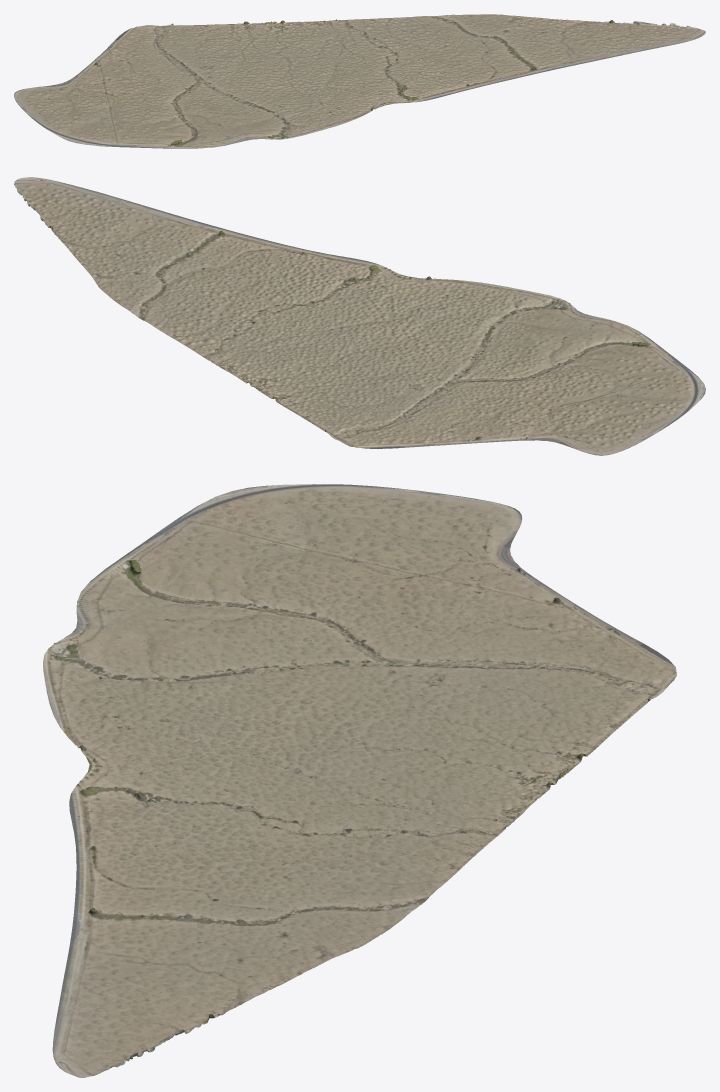
3 renders of one model, top to bottom at view 1: azimuth 30°, elevation 25°; view 2: azimuth 150°, elevation 25°; view 3: azimuth 270°, elevation 25°, orthographic. The views are drawn at different scales.
Visible parts, largest first — view 1: BHR_002_M3_2_MadinatHamadDetail; view 2: BHR_002_M3_2_MadinatHamadDetail; view 3: BHR_002_M3_2_MadinatHamadDetail.
Boxes of the visible parts, bbox=[...] form: BHR_002_M3_2_MadinatHamadDetail: bbox=[14, 14, 705, 148]; BHR_002_M3_2_MadinatHamadDetail: bbox=[14, 177, 705, 455]; BHR_002_M3_2_MadinatHamadDetail: bbox=[43, 484, 676, 1077].
Size of the model in its own units: 1416 by 21.61 by 649.
1 material, 1 textured.
